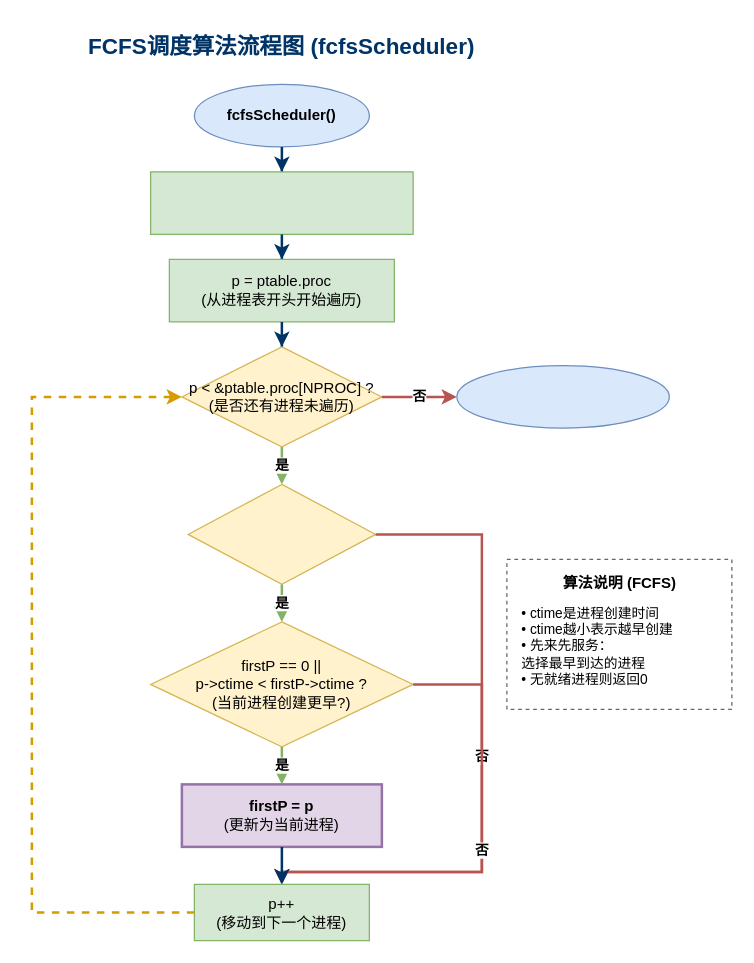
Image size: 754x963. Some labels were removed from this diagram. Each missing label, with the centre of its shape:
firstP = 0 (最早创建的进程指针，初始为空): point 281,202
p->state == RUNNABLE ? (进程是否就绪): point 281,533
return firstP (返回最早创建的进程): point 562,396
